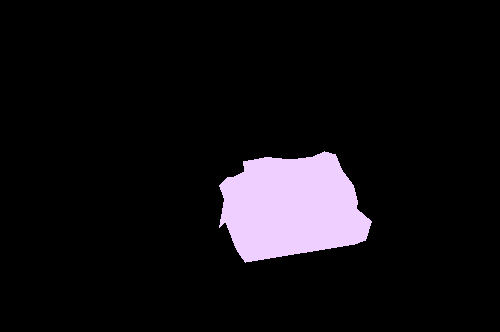Train: (219, 151, 371, 262)
